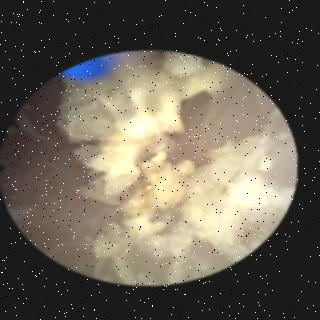fiber: (63, 54, 119, 78)
stone: (60, 49, 270, 239), (98, 220, 127, 254)
